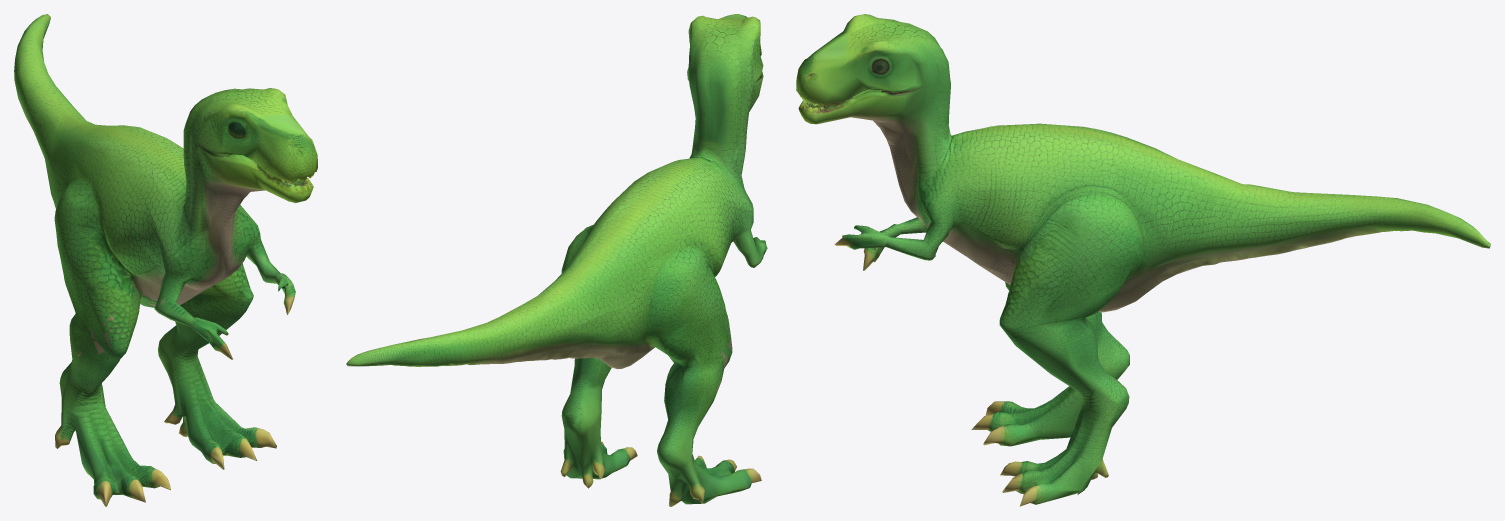
File: dino2.fbx
The picture shows the model from 3 angles, left to right: view 1: azimuth 30°, elevation 25°; view 2: azimuth 150°, elevation 25°; view 3: azimuth 270°, elevation 25°; orthographic projection. The views are drawn at different scales.
Visible parts, largest first — view 1: Mesh1.0; view 2: Mesh1.0; view 3: Mesh1.0.
Part boxes in pixels (x1=…): Mesh1.0: x1=14, y1=14, x2=317, y2=506; Mesh1.0: x1=346, y1=14, x2=767, y2=506; Mesh1.0: x1=796, y1=14, x2=1490, y2=506.
Bounding box in the file's own units: 61.96 × 132 × 191.
Materials: 1 (1 with a texture image).
